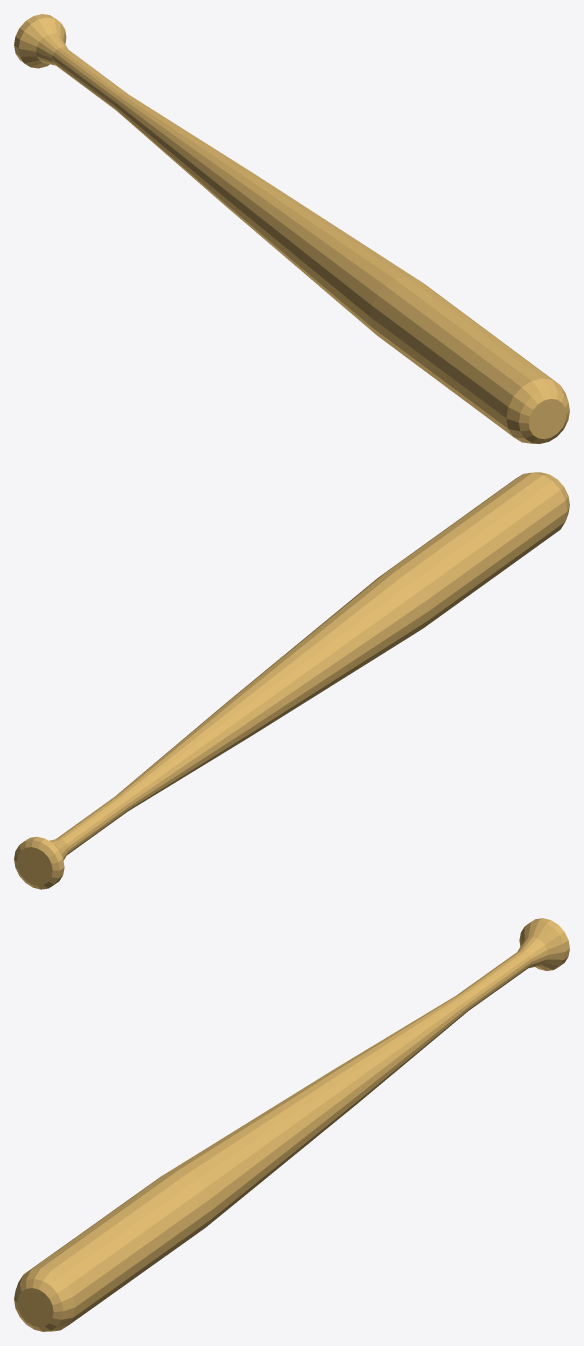
The model's file is 7lesi0f7J82.glb.
3 views of the same model, one above another, from view 1: azimuth 30°, elevation 25°; view 2: azimuth 150°, elevation 25°; view 3: azimuth 330°, elevation 25° (orthographic). The views are drawn at different scales.
Visible parts, largest first — view 1: Bat; view 2: Bat; view 3: Bat.
Boxes of the visible parts, x1,y1,x2,y2 form: Bat: (14,14,569,443); Bat: (14,472,569,889); Bat: (14,918,569,1331).
Bounding box in the file's own units: 1.05 × 1 × 14.93.
